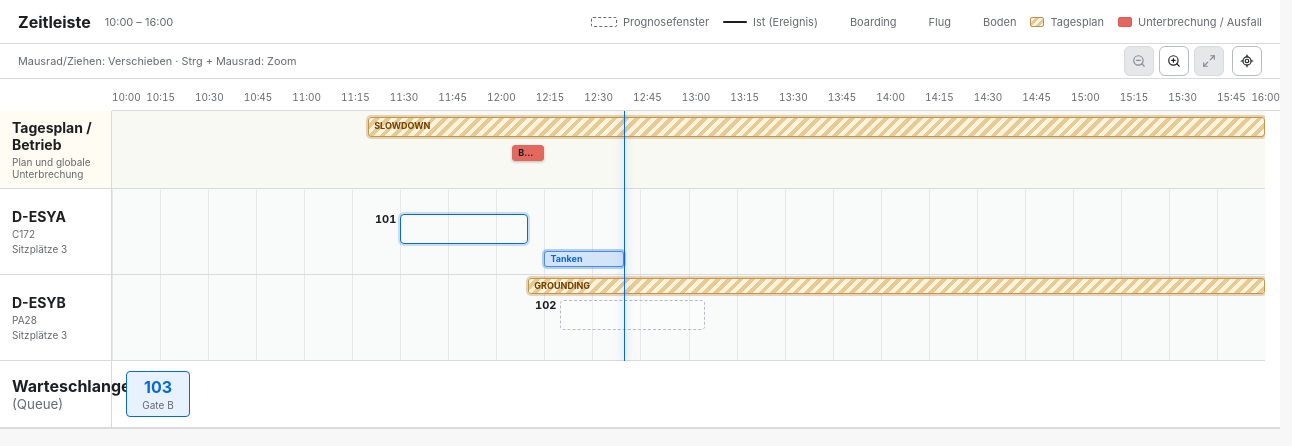
Test: forecast timeline › shows tooltip details on keyboard focus, including available actual boarding
Focus the button named "Fluggruppe 101, COMPLETED": (464, 229) 400,214 -> 528,244
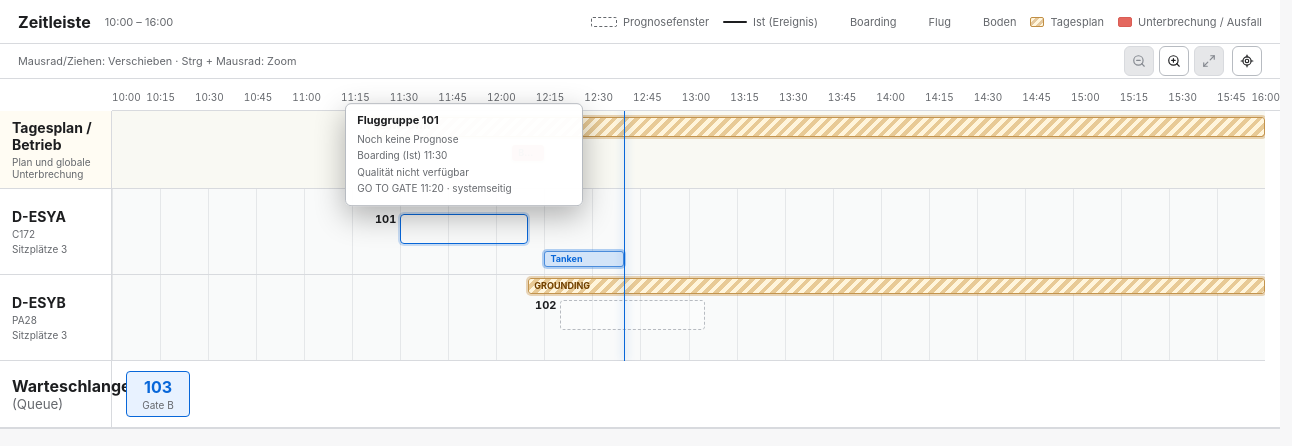
Now the tooltip shows "Fluggruppe 101", box 345,103 -> 583,206
Now the tooltip shows "Boarding (Ist) 11:30", box 345,103 -> 583,206
Now the tooltip shows "GO TO GATE 11:20 · systemseitig", box 345,103 -> 583,206
Leave the button named "Fluggruppe 101, COMPLETED", box 400,214 -> 528,244
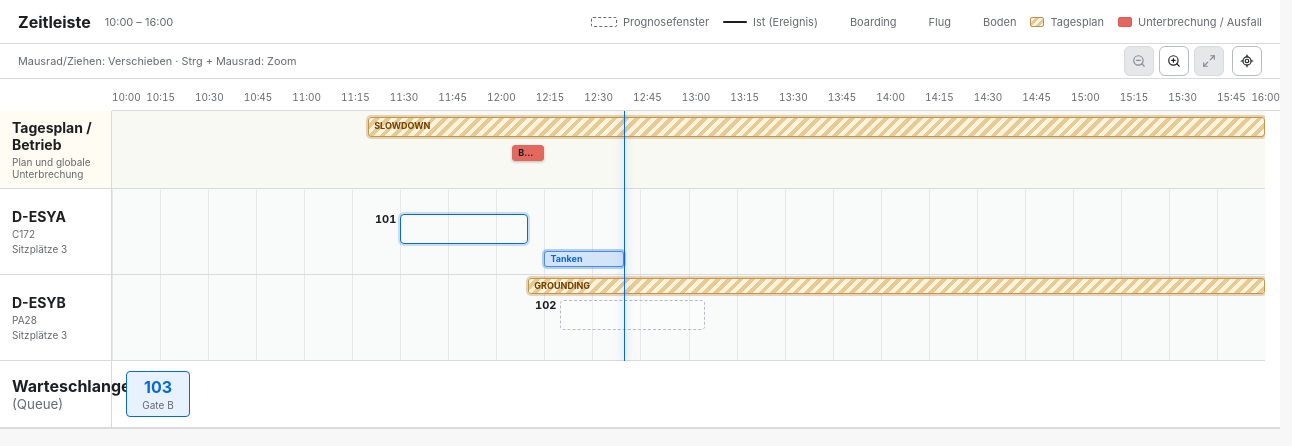
Now the tooltip is gone
